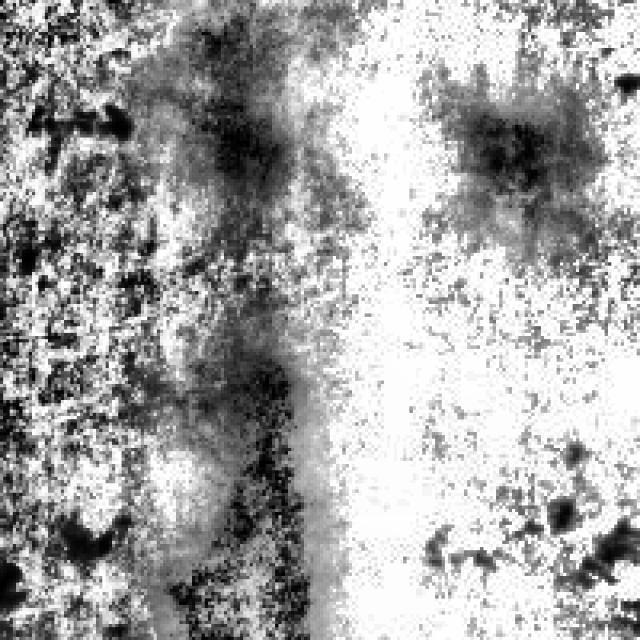Scratches: (160, 346, 317, 634), (138, 3, 294, 189), (448, 90, 582, 230)
